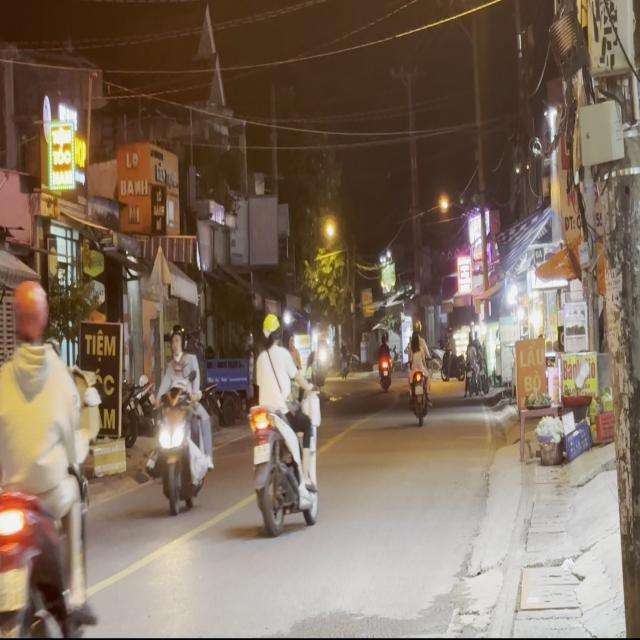helmet: (9, 278, 50, 351), (168, 323, 185, 358), (261, 311, 279, 344)
licenseplate: (0, 275, 98, 633), (247, 306, 321, 534), (149, 321, 214, 516)
nohelmet: (0, 567, 27, 610), (252, 442, 270, 463)
